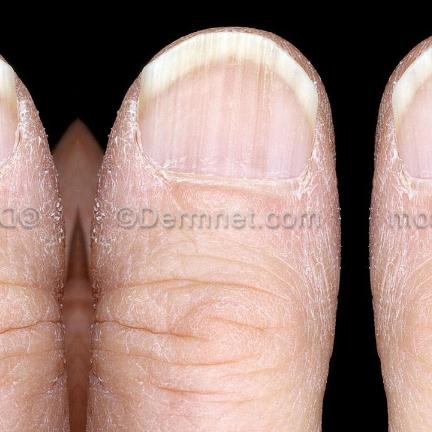Nail: (138, 32, 318, 180), (390, 44, 432, 180), (0, 59, 16, 163)
